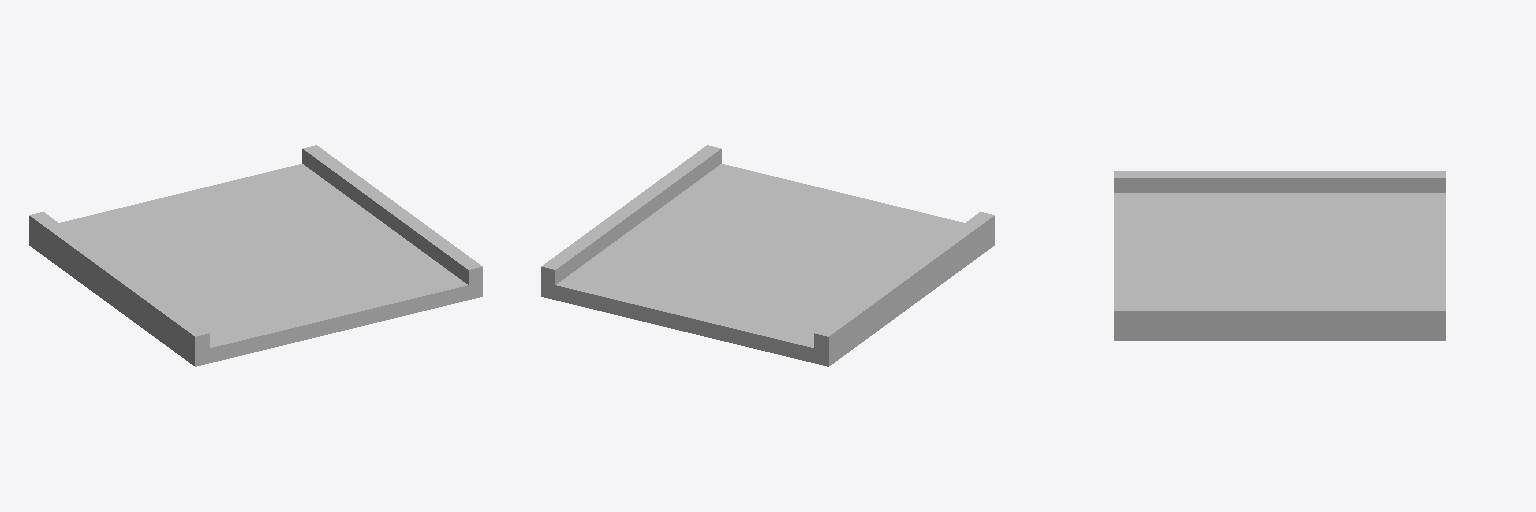
The model's file is meta arreglada.obj.
The picture shows the model from 3 angles: view 1: azimuth 30°, elevation 25°; view 2: azimuth 150°, elevation 25°; view 3: azimuth 270°, elevation 25°; orthographic projection.
Size of the model in its own units: 20 by 2 by 20.